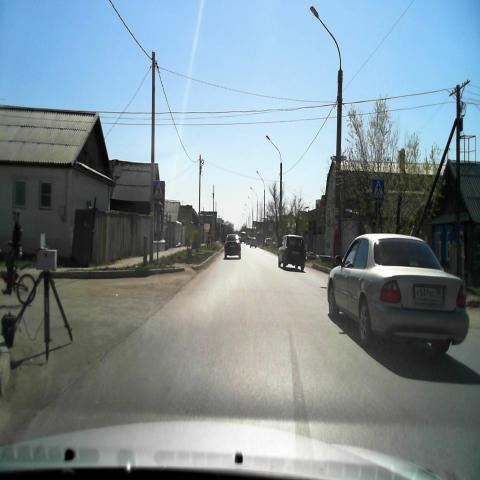5_19_1: (152, 179, 164, 202), (373, 178, 385, 200)
